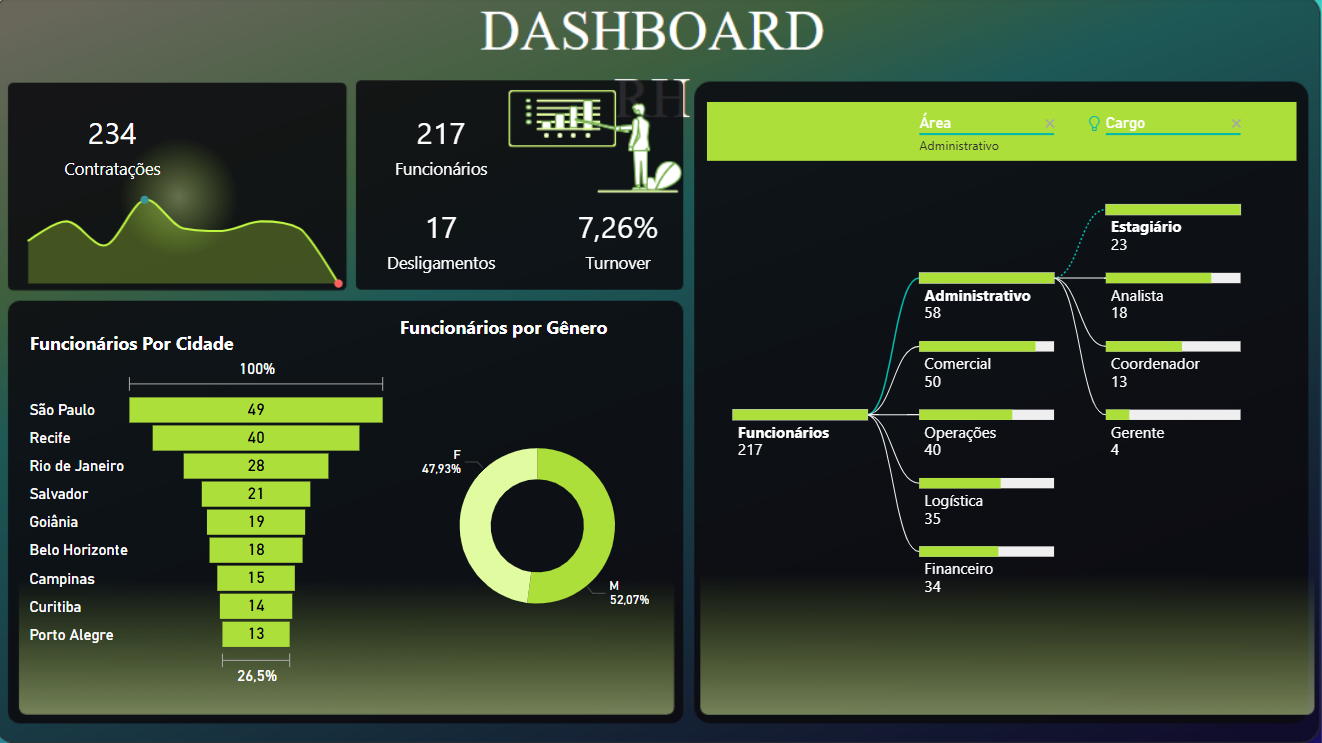

The dashboard page shown, as its layout file describes it:
{"tool":"powerbi","page":{"name":"Página 1","canvas":[1280,720],"ordinal":0},"visuals":[{"type":"card","fields":{"Values":["BaseFuncionarios.Contratações"]},"box":[27,103,170.1,79.6],"z":0},{"type":"PBI_CV_25997FEB_F466_44FA_B562_AC4063283C4C","fields":{"measure":["BaseFuncionarios.Contratações"],"axis":["BaseFuncionarios.Ano da Contratação"]},"box":[12,178,340,109],"z":1000},{"type":"card","fields":{"Values":["BaseFuncionarios.Func. Ativos"]},"box":[343.8,102.5,170.1,79.6],"z":2000},{"type":"card","fields":{"Values":["BaseFuncionarios.Desligamentos"]},"box":[343.8,193,170.1,79.6],"z":3000},{"type":"card","fields":{"Values":["BaseFuncionarios.Turnover"]},"box":[513.9,193,171.3,79.6],"z":4000},{"type":"funnel","title":"Funcionários Por Cidade","fields":{"Y":["BaseFuncionarios.Func. Ativos"],"Category":["BaseFuncionarios.Cidade"]},"box":[26.5,322.1,355.9,347.5],"z":5000},{"type":"donutChart","title":"Funcionários por Gênero","fields":{"Y":["BaseFuncionarios.Func. Ativos"],"Category":["BaseFuncionarios.Genero"]},"box":[384,307,276,386],"z":6000},{"type":"decompositionTreeVisual","fields":{"Analyze":["BaseFuncionarios.Funcionários"],"ExplainBy":["BaseFuncionarios.Área","BaseFuncionarios.Cargo"]},"box":[681,97,579,598],"z":7000}]}

Visuals, with their boxes in screenshot pixels (x1, y1, x2, y2), scaled from the page's 1280x720 canvas onto the 1322x743 screenshot:
card - BaseFuncionarios.Contratações: 28 106 204 188
PBI_CV_25997FEB_F466_44FA_B562_AC4063283C4C - BaseFuncionarios.Contratações x BaseFuncionarios.Ano da Contratação: 12 184 364 296
card - BaseFuncionarios.Func. Ativos: 355 106 531 188
card - BaseFuncionarios.Desligamentos: 355 199 531 281
card - BaseFuncionarios.Turnover: 531 199 708 281
"Funcionários Por Cidade" funnel: 27 332 395 691
"Funcionários por Gênero" donutChart: 397 317 682 715
decompositionTreeVisual - BaseFuncionarios.Funcionários x BaseFuncionarios.Área: 703 100 1301 717
